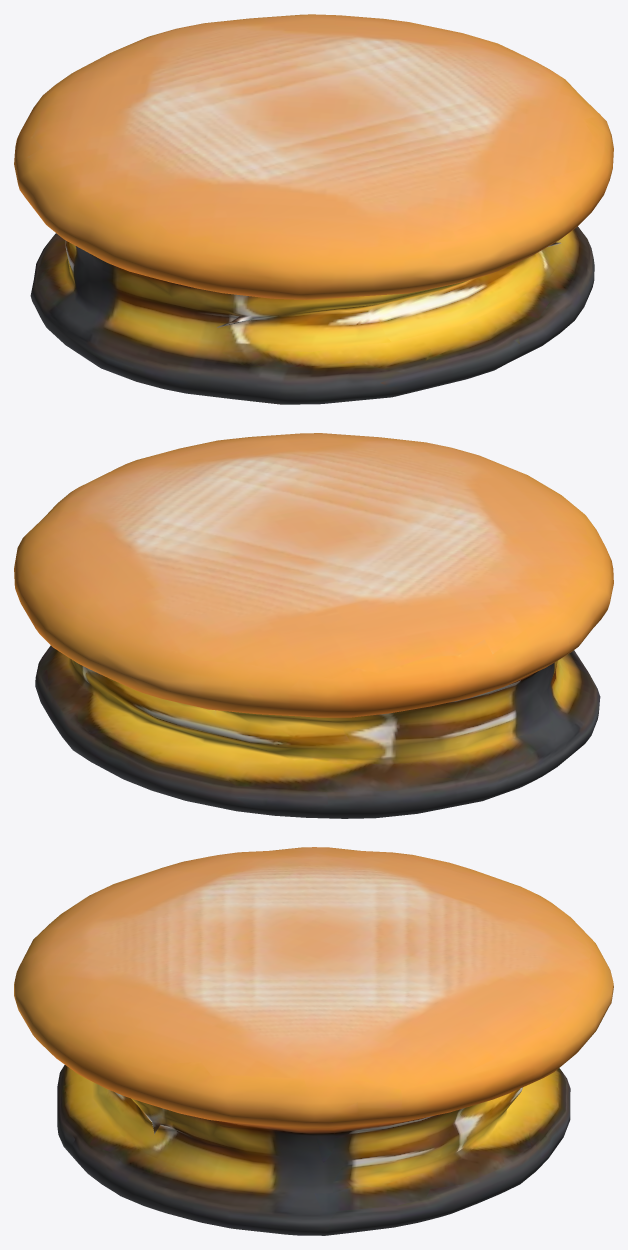
File: launch-pad.glb
3 views of the same model, one above another, from view 1: azimuth 30°, elevation 25°; view 2: azimuth 150°, elevation 25°; view 3: azimuth 270°, elevation 25° (orthographic).
Visible parts, largest first — view 1: prop; view 2: prop; view 3: prop.
Part boxes in pixels (x1,y1,x2,y2): prop: (14,14,613,404); prop: (14,433,613,818); prop: (14,847,613,1235).
Bounding box in the file's own units: 1.62 × 0.6 × 1.63.
Materials: 1 (1 with a texture image).
